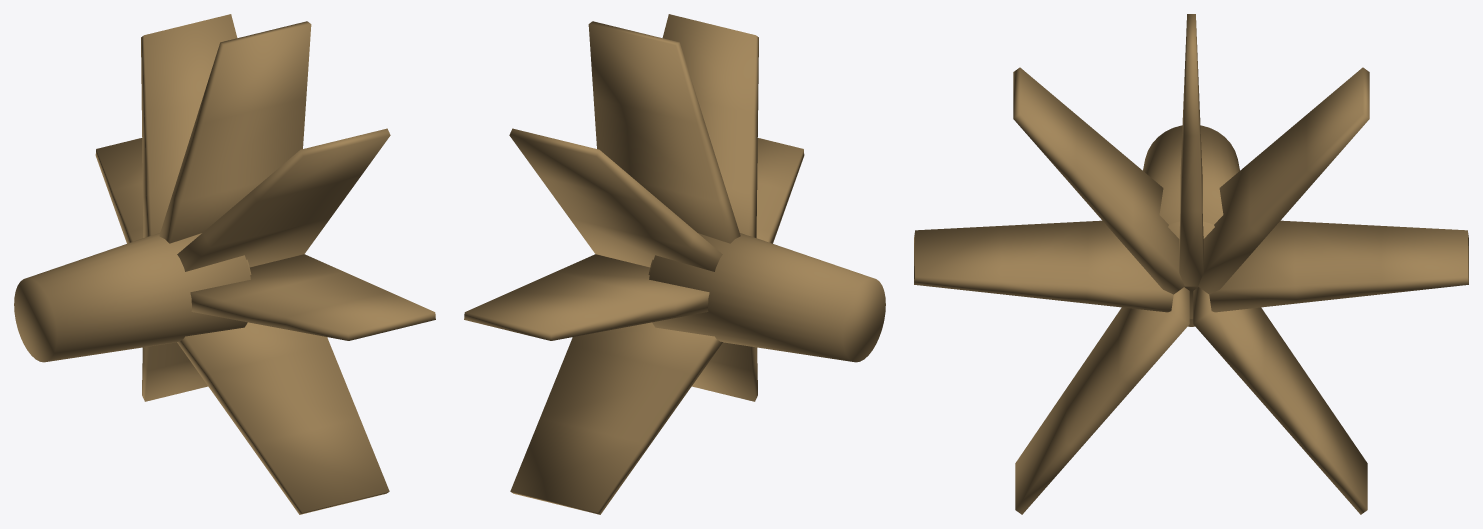
The model's file is RU_SSN_Victor_PROPULSOR_01.fbx.
3 views of the same model, side by side, from view 1: azimuth 30°, elevation 25°; view 2: azimuth 150°, elevation 25°; view 3: azimuth 270°, elevation 25° (orthographic). The views are drawn at different scales.
Visible parts, largest first — view 1: RU_SSN_Victor_PROPULSOR_01; view 2: RU_SSN_Victor_PROPULSOR_01; view 3: RU_SSN_Victor_PROPULSOR_01.
Part boxes in pixels (<box>): RU_SSN_Victor_PROPULSOR_01: <box>14,14,435,514</box>; RU_SSN_Victor_PROPULSOR_01: <box>464,14,885,514</box>; RU_SSN_Victor_PROPULSOR_01: <box>914,14,1468,514</box>.
Size of the model in its own units: 2.2 by 3.52 by 3.18.
